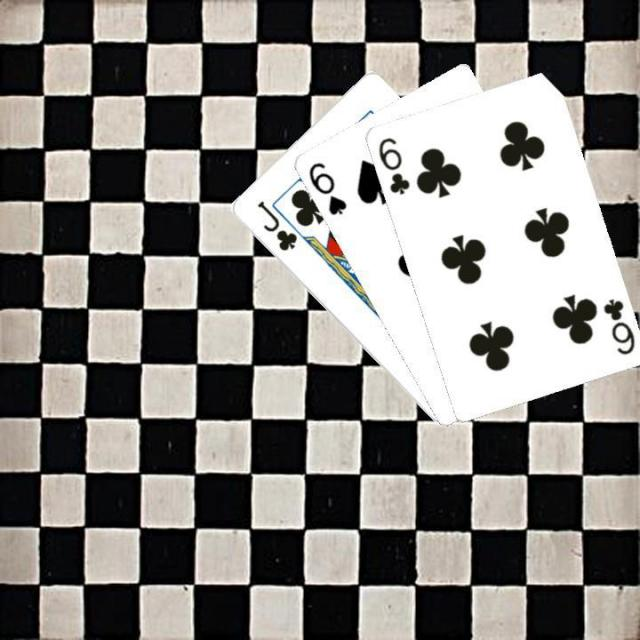6C: (374, 134, 412, 196), (598, 294, 636, 356)
6S: (304, 157, 348, 217)
JC: (252, 196, 298, 254)
